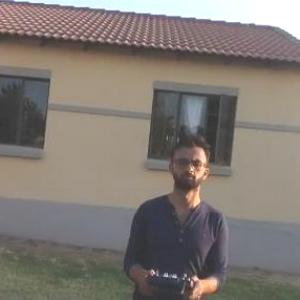follow: (117, 130, 233, 299)
